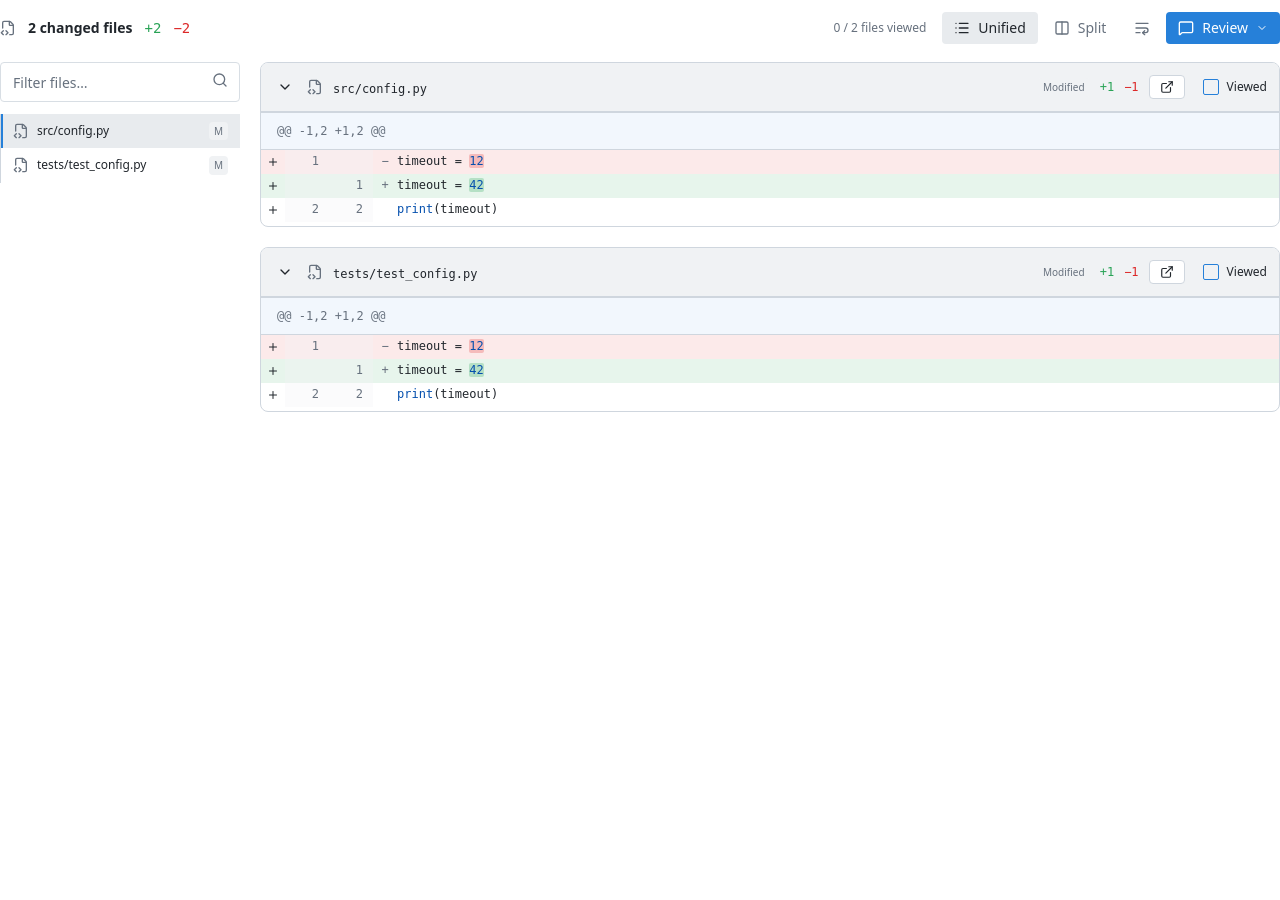
Test case: PullRequestFiles › authors can comment or request changes but cannot approve
Click the button "Review" at (1223, 28), box [1166,12,1279,44]
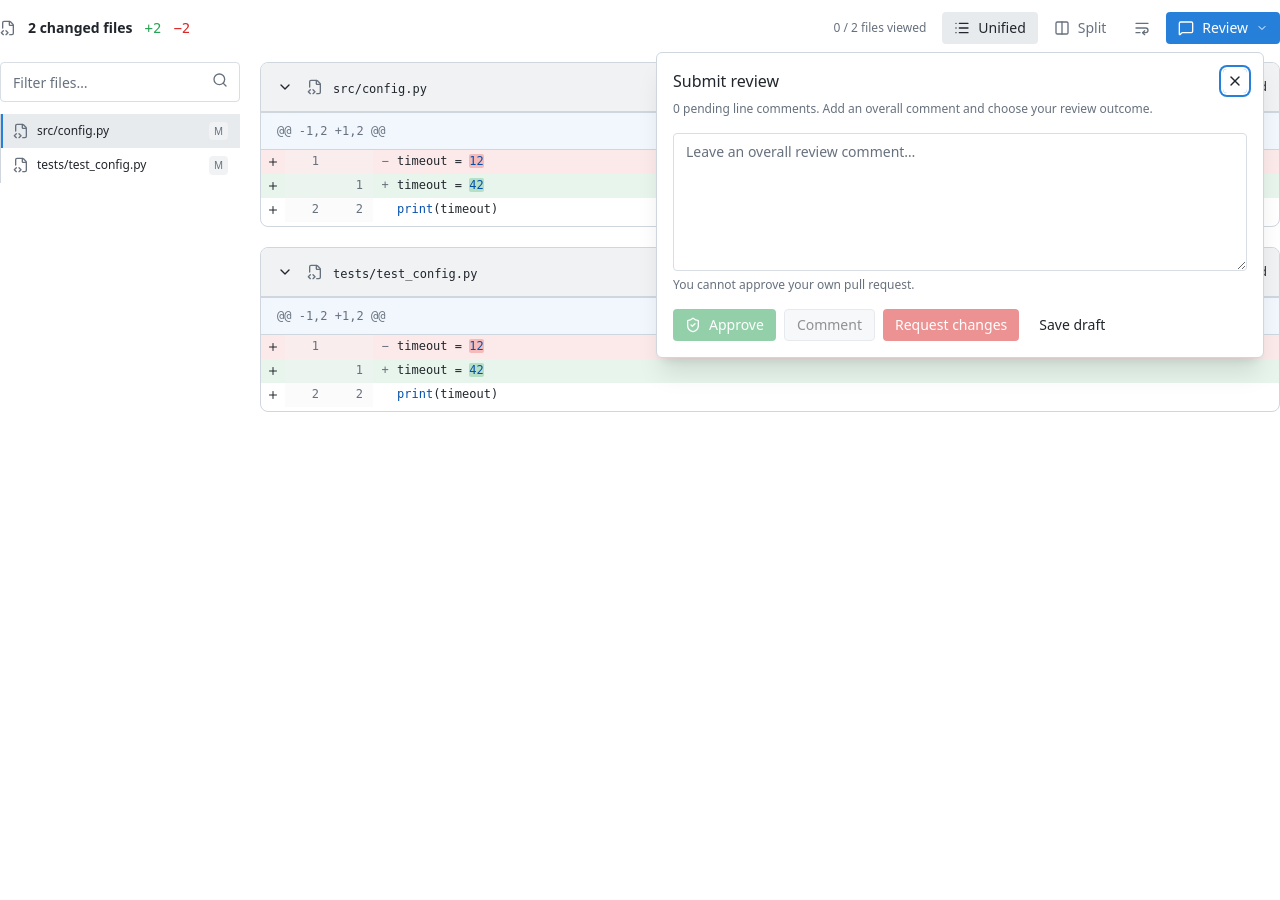
Expected: the button "Approve" is disabled, [673,309,776,341]
Type "A note" into the text box labelled "review comment" at (960, 202), box [673,133,1247,271]
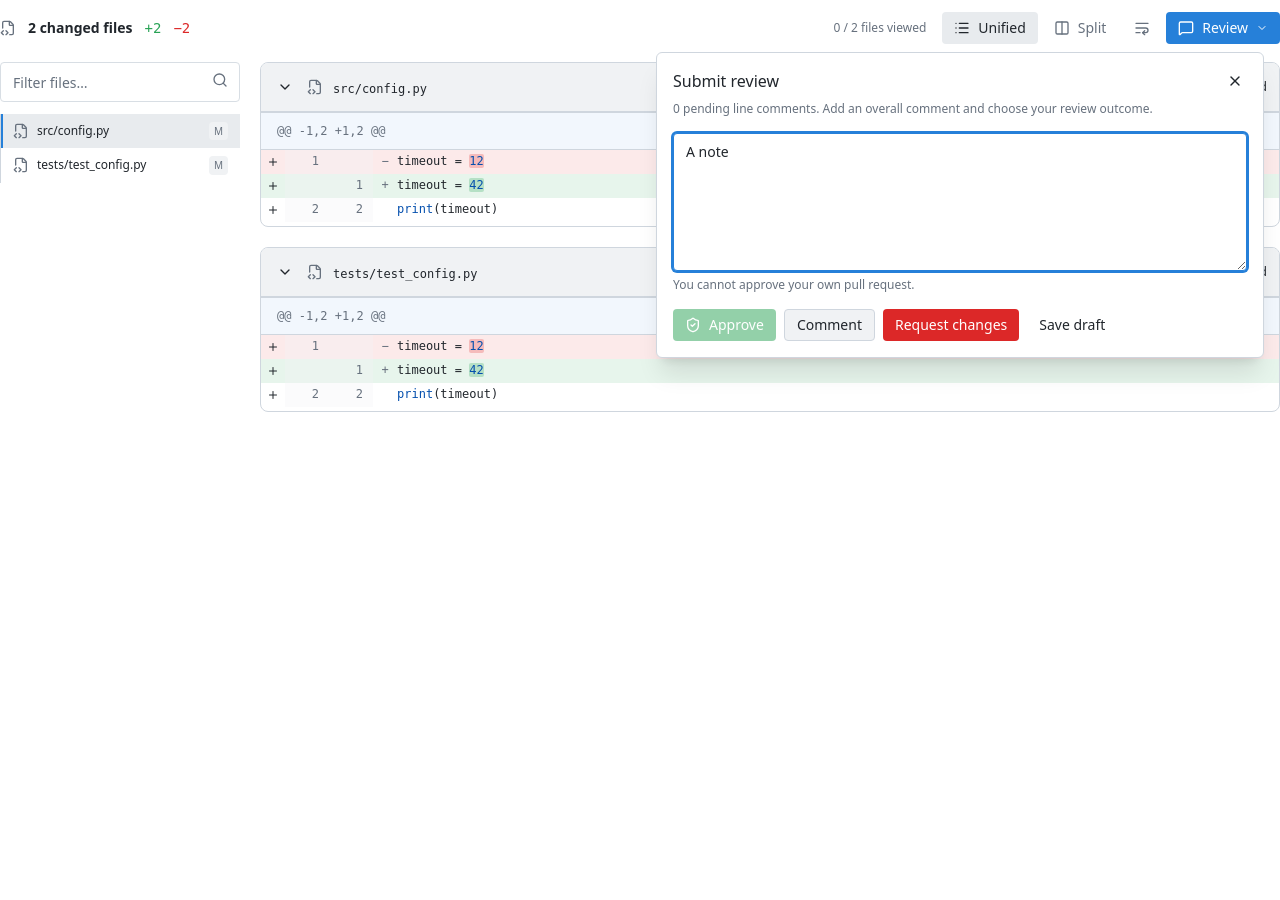
Expected: the button "Comment" is enabled, [784,309,875,341]
Expected: the button "Request changes" is enabled, [883,309,1019,341]
